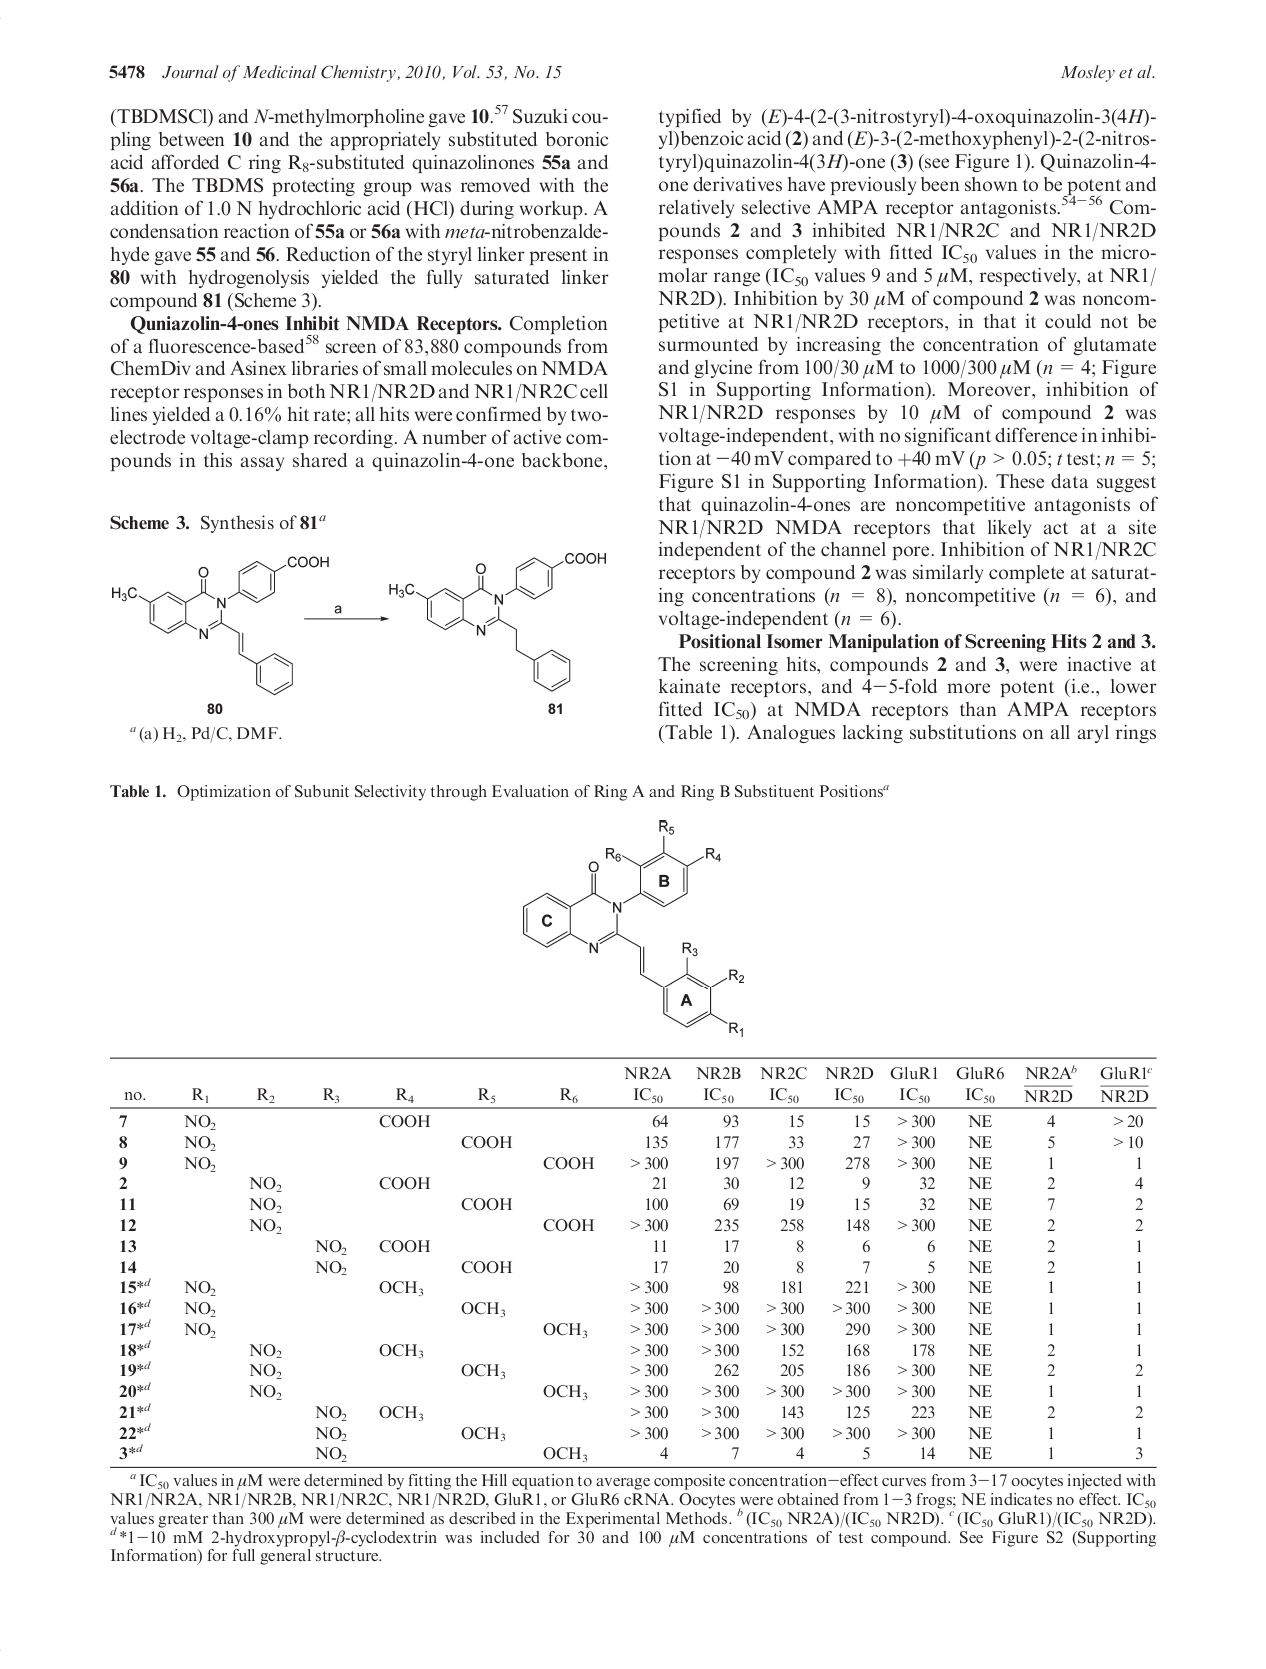exist_molecular: (520, 814, 761, 1039), (387, 541, 621, 692), (104, 548, 332, 696)
